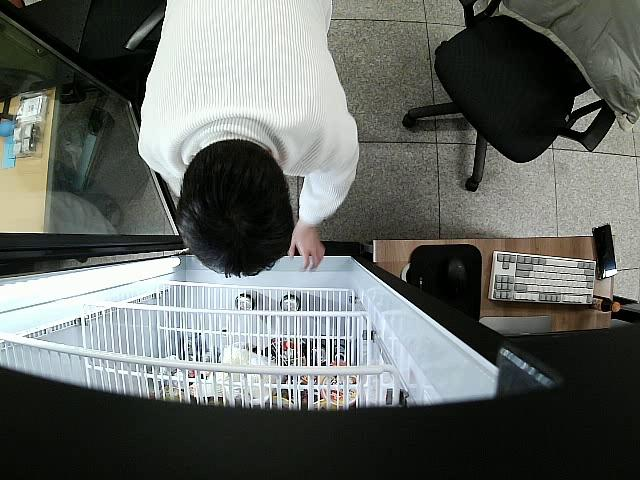00_hand: (289, 219, 324, 273)
